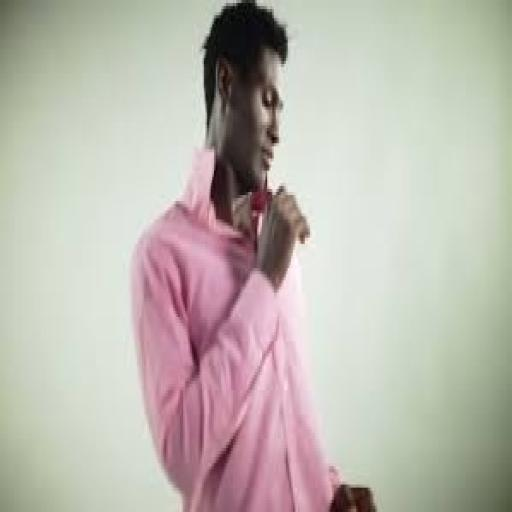dancing: (126, 0, 376, 509)
